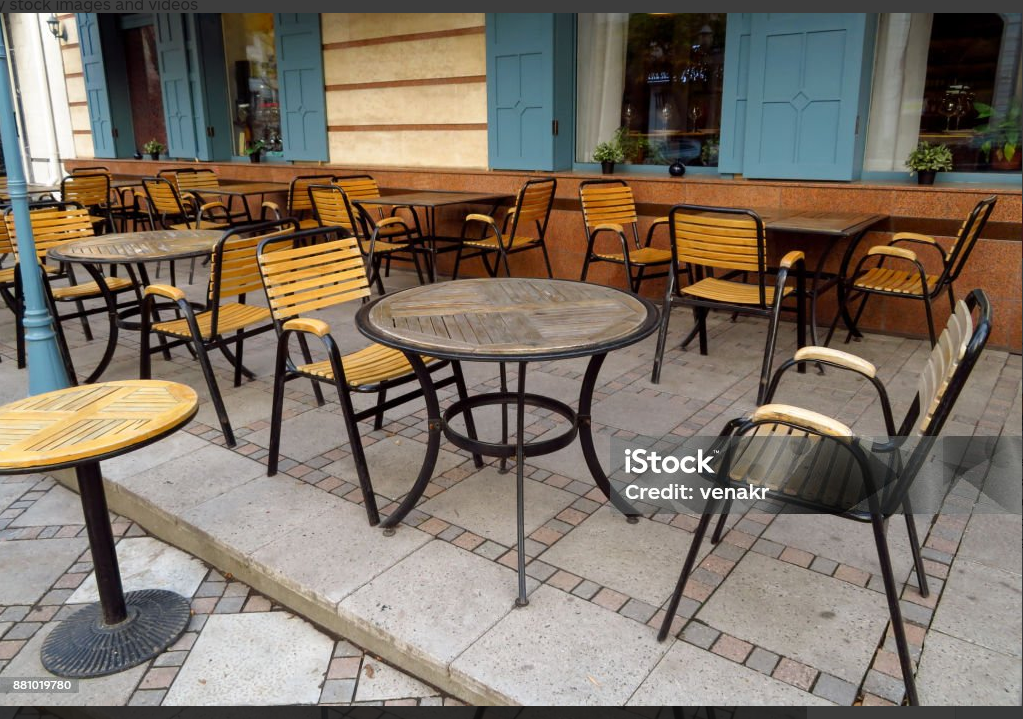obstacle: (682, 285, 991, 698), (354, 270, 644, 614), (2, 372, 208, 674), (257, 221, 432, 494), (648, 197, 795, 390), (57, 222, 221, 390), (141, 246, 273, 434), (322, 167, 545, 270), (850, 191, 1000, 330), (135, 164, 313, 225), (574, 168, 659, 273), (904, 139, 957, 183)
